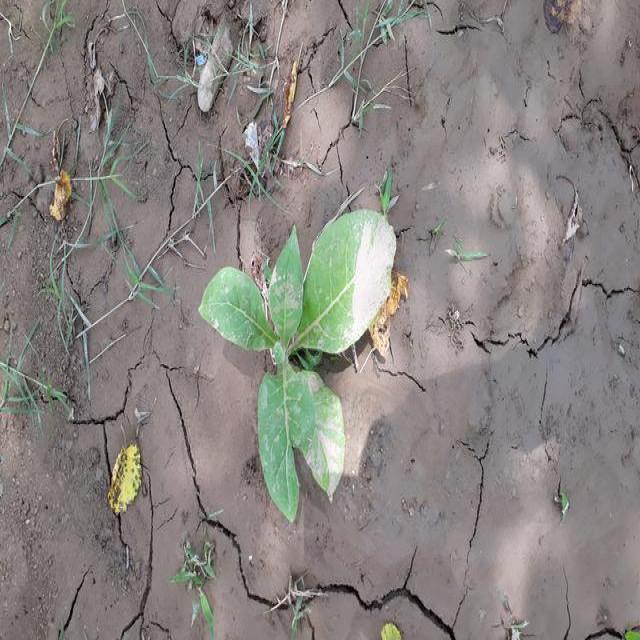crop: (200, 213, 414, 518)
